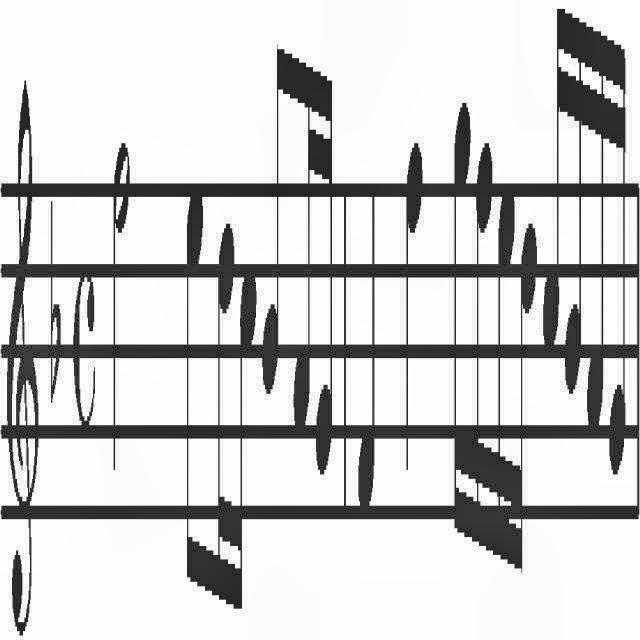Bass-clef: (0, 28, 42, 640)
Bemol: (46, 177, 66, 403)
Eighth-note: (184, 189, 208, 589), (258, 16, 284, 384)
Half-note: (108, 110, 136, 482)
Quarter-note: (399, 108, 421, 520), (354, 205, 382, 508)
Sixteenth-note: (608, 24, 632, 492), (290, 28, 314, 476), (316, 61, 340, 502), (492, 142, 516, 582), (585, 0, 607, 454), (213, 164, 234, 634), (451, 78, 471, 554), (516, 182, 538, 590), (237, 251, 260, 613), (541, 0, 564, 356), (566, 6, 586, 398), (474, 118, 491, 562)
